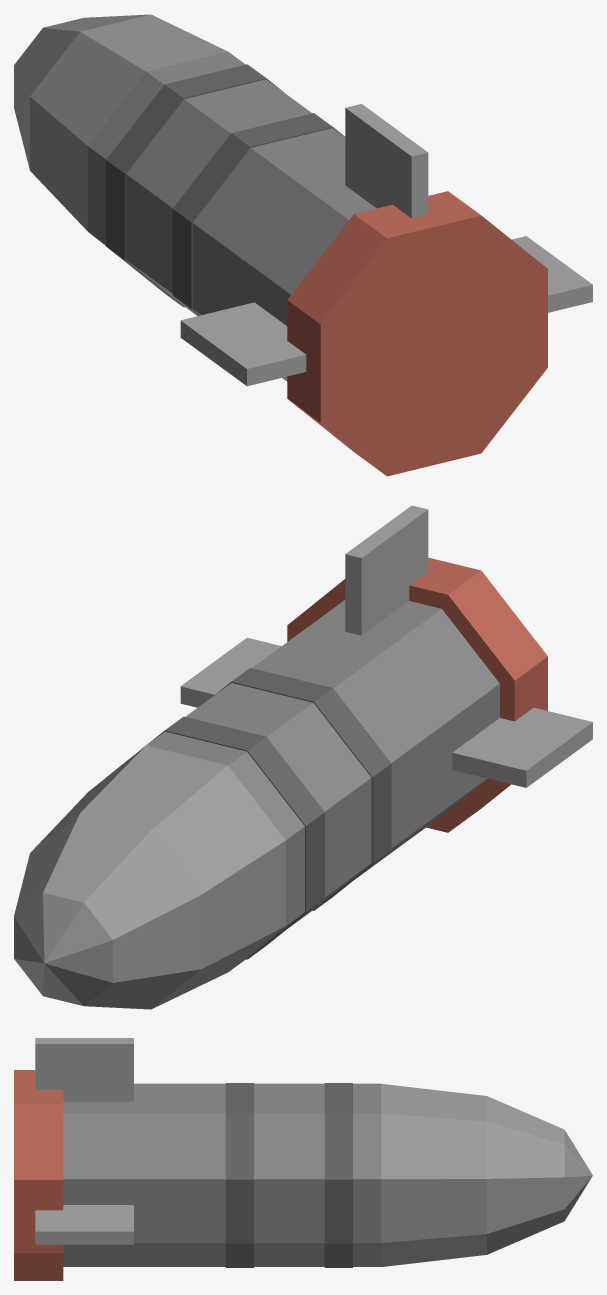
The model's file is ce_ammo2_minirocket_bb_a.obj.
3 renders of one model, top to bottom at view 1: azimuth 30°, elevation 25°; view 2: azimuth 150°, elevation 25°; view 3: azimuth 270°, elevation 25°, orthographic. The views are drawn at different scales.
Visible parts, largest first — view 1: ce_ammo2_minirocket_bb_a_0, ce_ammo2_minirocket_bb_a_1, ce_ammo2_minirocket_bb_a_6, ce_ammo2_minirocket_bb_a_3, ce_ammo2_minirocket_bb_a_9, ce_ammo2_minirocket_bb_a_10, ce_ammo2_minirocket_bb_a_4, ce_ammo2_minirocket_bb_a_2, ce_ammo2_minirocket_bb_a_5, ce_ammo2_minirocket_bb_a_7; view 2: ce_ammo2_minirocket_bb_a_1, ce_ammo2_minirocket_bb_a_6, ce_ammo2_minirocket_bb_a_7, ce_ammo2_minirocket_bb_a_3, ce_ammo2_minirocket_bb_a_0, ce_ammo2_minirocket_bb_a_9, ce_ammo2_minirocket_bb_a_8, ce_ammo2_minirocket_bb_a_10, ce_ammo2_minirocket_bb_a_2, ce_ammo2_minirocket_bb_a_4, ce_ammo2_minirocket_bb_a_5; view 3: ce_ammo2_minirocket_bb_a_1, ce_ammo2_minirocket_bb_a_6, ce_ammo2_minirocket_bb_a_3, ce_ammo2_minirocket_bb_a_7, ce_ammo2_minirocket_bb_a_0, ce_ammo2_minirocket_bb_a_10, ce_ammo2_minirocket_bb_a_2, ce_ammo2_minirocket_bb_a_4, ce_ammo2_minirocket_bb_a_5, ce_ammo2_minirocket_bb_a_9, ce_ammo2_minirocket_bb_a_8.
Boxes of the visible parts, left/top/right/bottom form: ce_ammo2_minirocket_bb_a_0: left=287, top=191, right=547, bottom=476; ce_ammo2_minirocket_bb_a_1: left=192, top=128, right=376, bottom=381; ce_ammo2_minirocket_bb_a_6: left=30, top=14, right=227, bottom=231; ce_ammo2_minirocket_bb_a_3: left=126, top=79, right=311, bottom=315; ce_ammo2_minirocket_bb_a_9: left=180, top=236, right=592, bottom=386; ce_ammo2_minirocket_bb_a_10: left=345, top=104, right=428, bottom=218; ce_ammo2_minirocket_bb_a_4: left=106, top=64, right=284, bottom=307; ce_ammo2_minirocket_bb_a_2: left=172, top=113, right=344, bottom=315; ce_ammo2_minirocket_bb_a_5: left=88, top=51, right=245, bottom=245; ce_ammo2_minirocket_bb_a_7: left=14, top=14, right=149, bottom=169; ce_ammo2_minirocket_bb_a_1: left=252, top=600, right=499, bottom=878; ce_ammo2_minirocket_bb_a_6: left=30, top=745, right=285, bottom=1008; ce_ammo2_minirocket_bb_a_7: left=14, top=813, right=201, bottom=1009; ce_ammo2_minirocket_bb_a_3: left=185, top=683, right=371, bottom=926; ce_ammo2_minirocket_bb_a_0: left=287, top=557, right=547, bottom=832; ce_ammo2_minirocket_bb_a_9: left=180, top=637, right=592, bottom=787; ce_ammo2_minirocket_bb_a_8: left=14, top=892, right=112, bottom=1005; ce_ammo2_minirocket_bb_a_10: left=345, top=505, right=428, bottom=635; ce_ammo2_minirocket_bb_a_2: left=214, top=668, right=391, bottom=910; ce_ammo2_minirocket_bb_a_4: left=107, top=716, right=324, bottom=959; ce_ammo2_minirocket_bb_a_5: left=146, top=731, right=304, bottom=969; ce_ammo2_minirocket_bb_a_1: left=63, top=1083, right=225, bottom=1266; ce_ammo2_minirocket_bb_a_6: left=381, top=1084, right=486, bottom=1266; ce_ammo2_minirocket_bb_a_3: left=254, top=1083, right=324, bottom=1266; ce_ammo2_minirocket_bb_a_7: left=487, top=1096, right=564, bottom=1254; ce_ammo2_minirocket_bb_a_0: left=14, top=1070, right=63, bottom=1280; ce_ammo2_minirocket_bb_a_10: left=35, top=1038, right=133, bottom=1101; ce_ammo2_minirocket_bb_a_2: left=225, top=1083, right=253, bottom=1267; ce_ammo2_minirocket_bb_a_4: left=324, top=1083, right=352, bottom=1267; ce_ammo2_minirocket_bb_a_5: left=353, top=1083, right=381, bottom=1266; ce_ammo2_minirocket_bb_a_9: left=35, top=1205, right=133, bottom=1244; ce_ammo2_minirocket_bb_a_8: left=564, top=1130, right=592, bottom=1220.
Size of the model in its own units: 0.42 by 0.3481 by 0.82.
